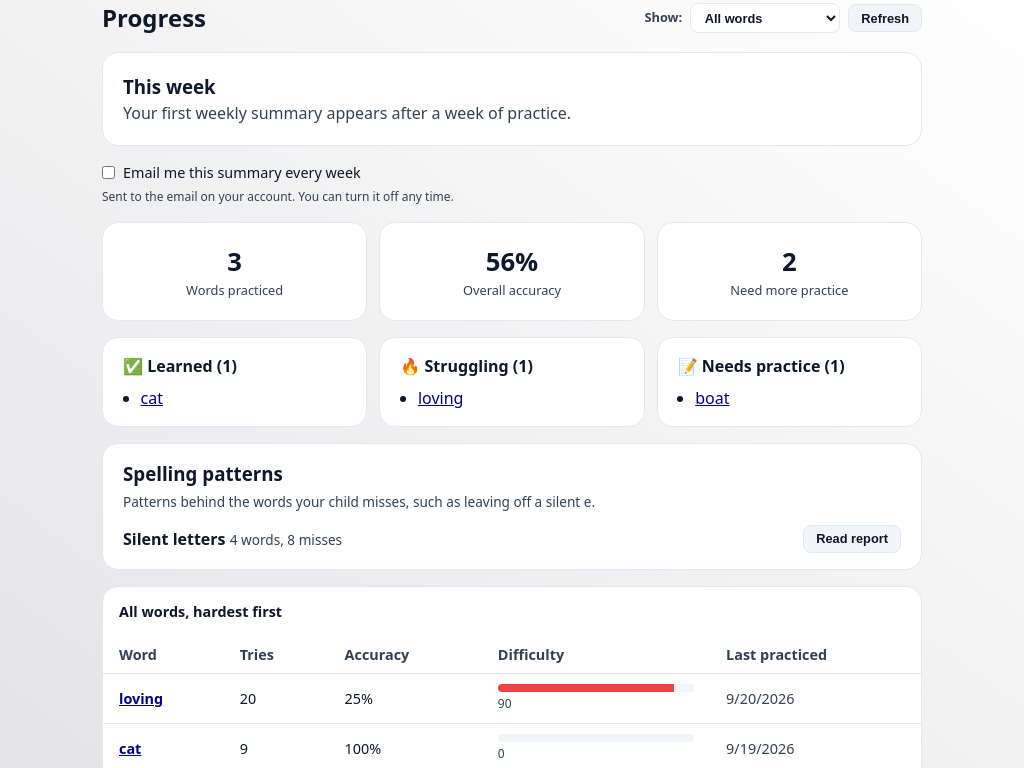
Scenario: ProgressPage › opens the parent report for an active pattern
What coordinates should you click on to do the following:
click the button "Read report"
I would click on:
 (852, 539)
Its box is [803,525,901,553].
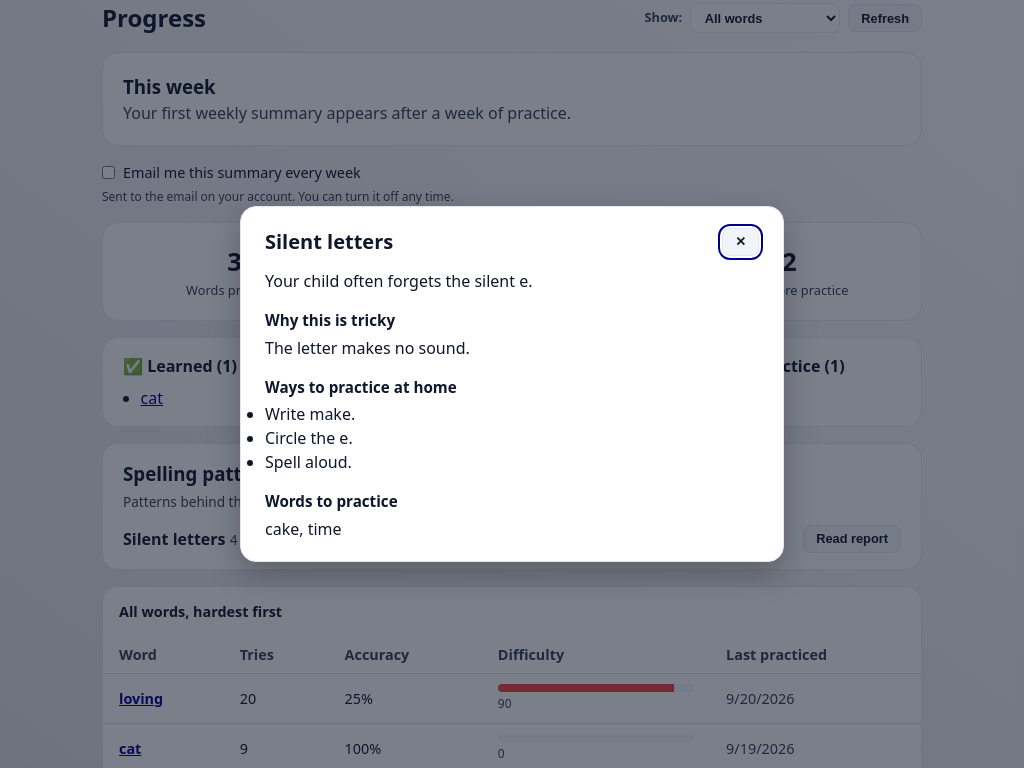
Result: the text "Your child often forgets the silent e." is shown at [265,270,532,292]
What coordinates should you click on to do the following:
click the button named "Close"
I would click on:
 (741, 242)
Its box is [722,228,759,256].
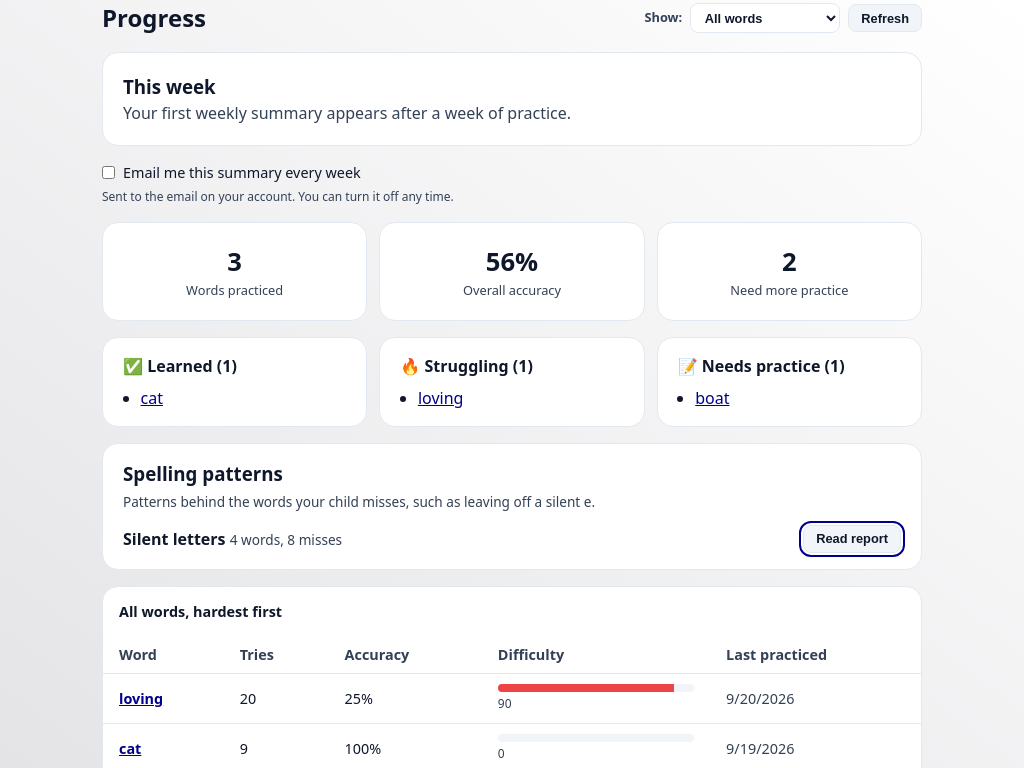
Result: the dialog is gone
